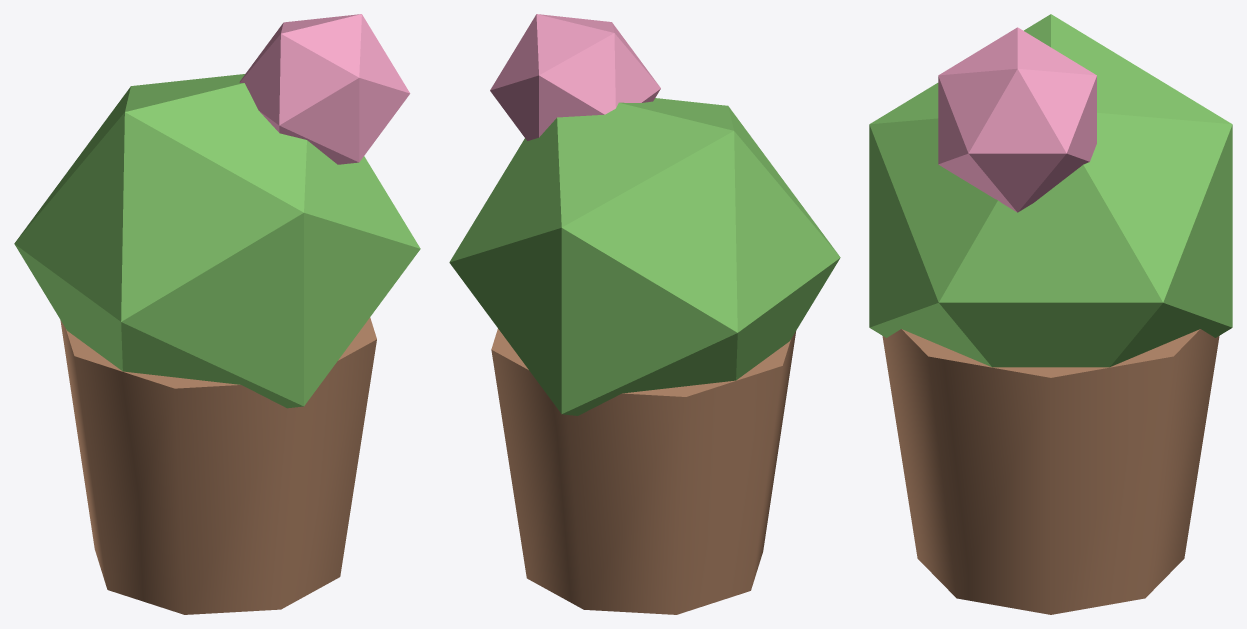
Rendered from plantPot.glb.
3 views of the same model, side by side, from view 1: azimuth 30°, elevation 25°; view 2: azimuth 150°, elevation 25°; view 3: azimuth 270°, elevation 25° (orthographic). The views are drawn at different scales.
Bounding box in the file's own units: 0.5513 × 0.9191 × 0.5444.
